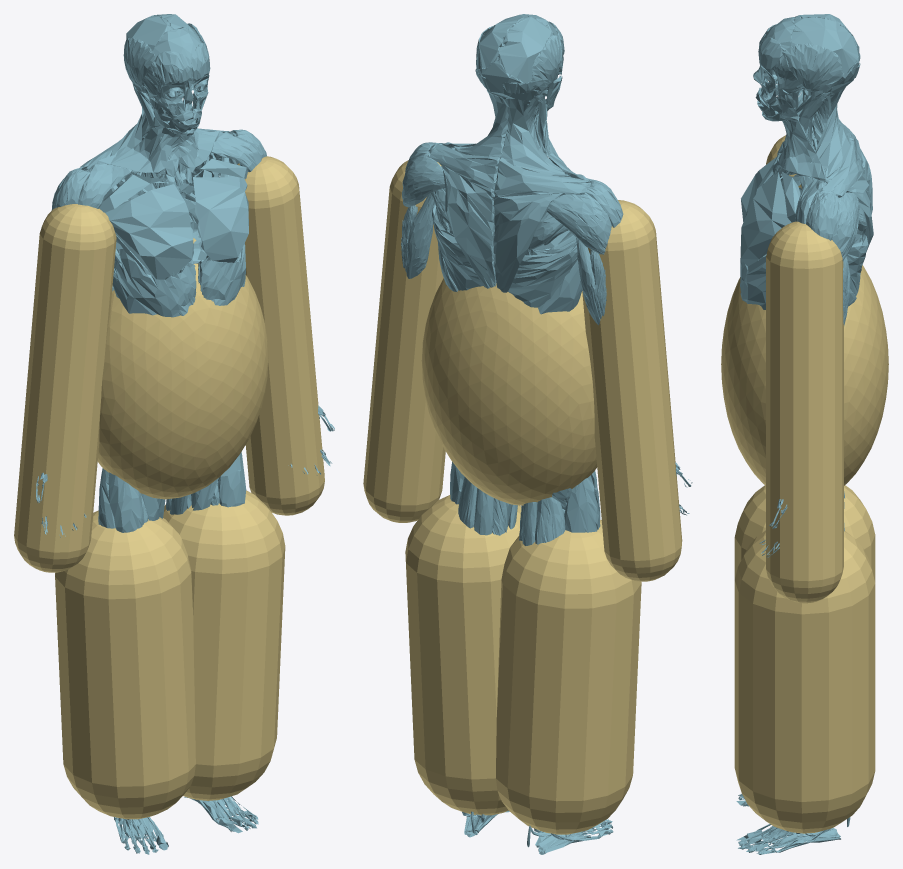
Rendered from avatar.glb.
3 views of the same model, side by side, from view 1: azimuth 30°, elevation 25°; view 2: azimuth 150°, elevation 25°; view 3: azimuth 270°, elevation 25° (orthographic). The views are drawn at different scales.
Parts seen in each view (by area): view 1: fat_leg_l, fat_torso, fat_arm_l, fat_leg_r, fat_arm_r, chest_r, head_r, chest_l, abs_r, quadriceps_r, head_l, head_skullcap_c (+8 smaller); view 2: fat_leg_l, fat_torso, fat_leg_r, fat_arm_l, fat_arm_r, back_r, back_l, shoulders_r, head_skullcap_c, head_r, shoulders_l, hamstrings_l (+8 smaller); view 3: fat_leg_r, fat_arm_r, fat_torso, head_l, back_l, chest_l, shoulders_l, head_skullcap_c, fat_leg_l, feet_l, neck_l, abs_l (+2 smaller).
Boxes of the visible parts, box(x1,y1,x2,y2) form: fat_leg_l: box(55, 510, 195, 819); fat_torso: box(97, 238, 268, 499); fat_arm_l: box(14, 204, 116, 572); fat_leg_r: box(163, 490, 285, 800); fat_arm_r: box(237, 156, 324, 515); chest_r: box(99, 171, 193, 291); head_r: box(97, 38, 193, 177); chest_l: box(165, 152, 248, 262); abs_r: box(112, 249, 196, 317); quadriceps_r: box(98, 468, 165, 532); head_l: box(178, 23, 222, 172); head_skullcap_c: box(126, 14, 201, 98); fat_leg_l: box(496, 519, 641, 834); fat_torso: box(421, 278, 597, 505); fat_leg_r: box(405, 495, 521, 815); fat_arm_l: box(582, 200, 682, 581); fat_arm_r: box(363, 160, 445, 522); back_r: box(493, 97, 588, 307); back_l: box(430, 92, 582, 314); shoulders_r: box(528, 167, 623, 254); head_skullcap_c: box(477, 14, 562, 101); head_r: box(502, 21, 577, 176); shoulders_l: box(402, 142, 471, 232); hamstrings_l: box(458, 477, 507, 535); fat_leg_r: box(734, 530, 875, 833); fat_arm_r: box(766, 221, 843, 603); fat_torso: box(721, 265, 888, 485); head_l: box(753, 37, 860, 182); back_l: box(810, 87, 873, 295); chest_l: box(740, 171, 862, 272); shoulders_l: box(795, 175, 866, 260); head_skullcap_c: box(763, 14, 859, 100); fat_leg_l: box(734, 485, 875, 582); feet_l: box(736, 817, 850, 854); neck_l: box(772, 90, 840, 183); abs_l: box(740, 254, 766, 309).
Size of the model in its own units: 0.6708 by 1.7 by 0.32.
